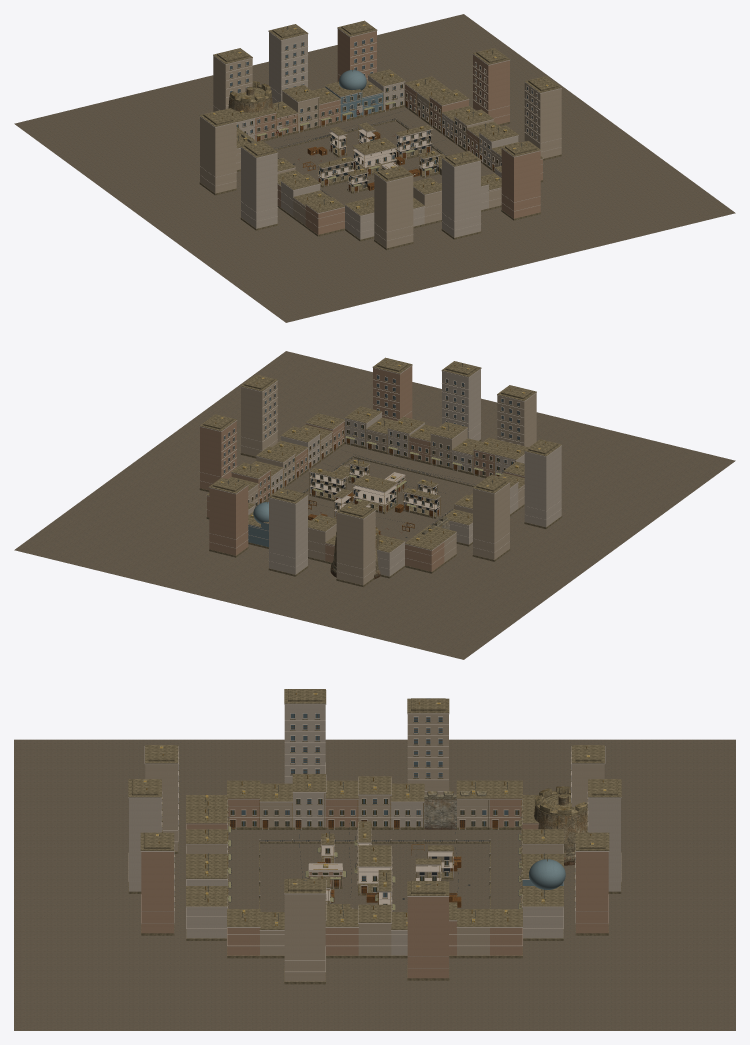
File: environment.glb
3 views of the same model, one above another, from view 1: azimuth 30°, elevation 25°; view 2: azimuth 150°, elevation 25°; view 3: azimuth 270°, elevation 25° (orthographic). The views are drawn at different scales.
Parts seen in each view (by area): view 1: DETAIL_v6_cobblestone_ground, DETAIL_weathered_limestone, DETAIL_aged_sand_plaster, DETAIL_sunbleached_plaster, DETAIL_pale_cut_stone, DETAIL_ochre_plaster, DETAIL_aged_door_wood, DETAIL_dusty_window_glass, DETAIL_aged_blue_dome, DETAIL_faded_teal_shutter, DETAIL_weathered_metal, DETAIL_deep_recess (+1 smaller); view 2: DETAIL_v6_cobblestone_ground, DETAIL_weathered_limestone, DETAIL_aged_sand_plaster, DETAIL_sunbleached_plaster, DETAIL_ochre_plaster, DETAIL_pale_cut_stone, DETAIL_dusty_window_glass, DETAIL_aged_door_wood, DETAIL_faded_teal_shutter, DETAIL_weathered_metal, DETAIL_aged_blue_dome, DETAIL_deep_recess; view 3: DETAIL_v6_cobblestone_ground, DETAIL_weathered_limestone, DETAIL_ochre_plaster, DETAIL_aged_sand_plaster, DETAIL_sunbleached_plaster, DETAIL_pale_cut_stone, DETAIL_dusty_window_glass, KIT_V31_west_wall_span, DETAIL_architecture_fort_wall, DETAIL_aged_door_wood, DETAIL_architecture_fort_trim, DETAIL_aged_blue_dome (+5 smaller).
Boxes of the visible parts, left/top/right/bottom form: DETAIL_v6_cobblestone_ground: left=14, top=14, right=735, bottom=322; DETAIL_weathered_limestone: left=199, top=20, right=561, bottom=250; DETAIL_aged_sand_plaster: left=200, top=56, right=561, bottom=248; DETAIL_sunbleached_plaster: left=236, top=32, right=518, bottom=239; DETAIL_pale_cut_stone: left=199, top=28, right=561, bottom=241; DETAIL_ochre_plaster: left=255, top=29, right=542, bottom=234; DETAIL_aged_door_wood: left=230, top=39, right=536, bottom=191; DETAIL_dusty_window_glass: left=230, top=38, right=537, bottom=187; DETAIL_aged_blue_dome: left=325, top=70, right=383, bottom=120; DETAIL_faded_teal_shutter: left=236, top=84, right=497, bottom=188; DETAIL_weathered_metal: left=222, top=27, right=539, bottom=206; DETAIL_deep_recess: left=231, top=40, right=438, bottom=189; DETAIL_v6_cobblestone_ground: left=14, top=351, right=735, bottom=659; DETAIL_weathered_limestone: left=199, top=357, right=561, bottom=587; DETAIL_aged_sand_plaster: left=241, top=381, right=536, bottom=585; DETAIL_sunbleached_plaster: left=248, top=369, right=561, bottom=576; DETAIL_ochre_plaster: left=200, top=366, right=524, bottom=571; DETAIL_pale_cut_stone: left=199, top=365, right=561, bottom=578; DETAIL_dusty_window_glass: left=224, top=375, right=519, bottom=512; DETAIL_aged_door_wood: left=224, top=376, right=519, bottom=534; DETAIL_faded_teal_shutter: left=248, top=421, right=513, bottom=512; DETAIL_weathered_metal: left=215, top=361, right=545, bottom=544; DETAIL_aged_blue_dome: left=248, top=502, right=268, bottom=547; DETAIL_deep_recess: left=257, top=377, right=519, bottom=537; DETAIL_v6_cobblestone_ground: left=14, top=739, right=735, bottom=1030; DETAIL_weathered_limestone: left=128, top=689, right=621, bottom=984; DETAIL_ochre_plaster: left=141, top=798, right=608, bottom=978; DETAIL_aged_sand_plaster: left=145, top=714, right=604, bottom=981; DETAIL_sunbleached_plaster: left=129, top=703, right=620, bottom=955; DETAIL_pale_cut_stone: left=128, top=690, right=621, bottom=972; DETAIL_dusty_window_glass: left=232, top=713, right=517, bottom=904; KIT_V31_west_wall_span: left=424, top=791, right=486, bottom=829; DETAIL_architecture_fort_wall: left=534, top=796, right=587, bottom=865; DETAIL_aged_door_wood: left=230, top=714, right=517, bottom=907; DETAIL_architecture_fort_trim: left=535, top=786, right=587, bottom=816; DETAIL_aged_blue_dome: left=522, top=859, right=565, bottom=889.
Size of what is drawn, in the model's own units: 168 by 28.41 by 176.
Materials: 23 (18 with a texture image).
